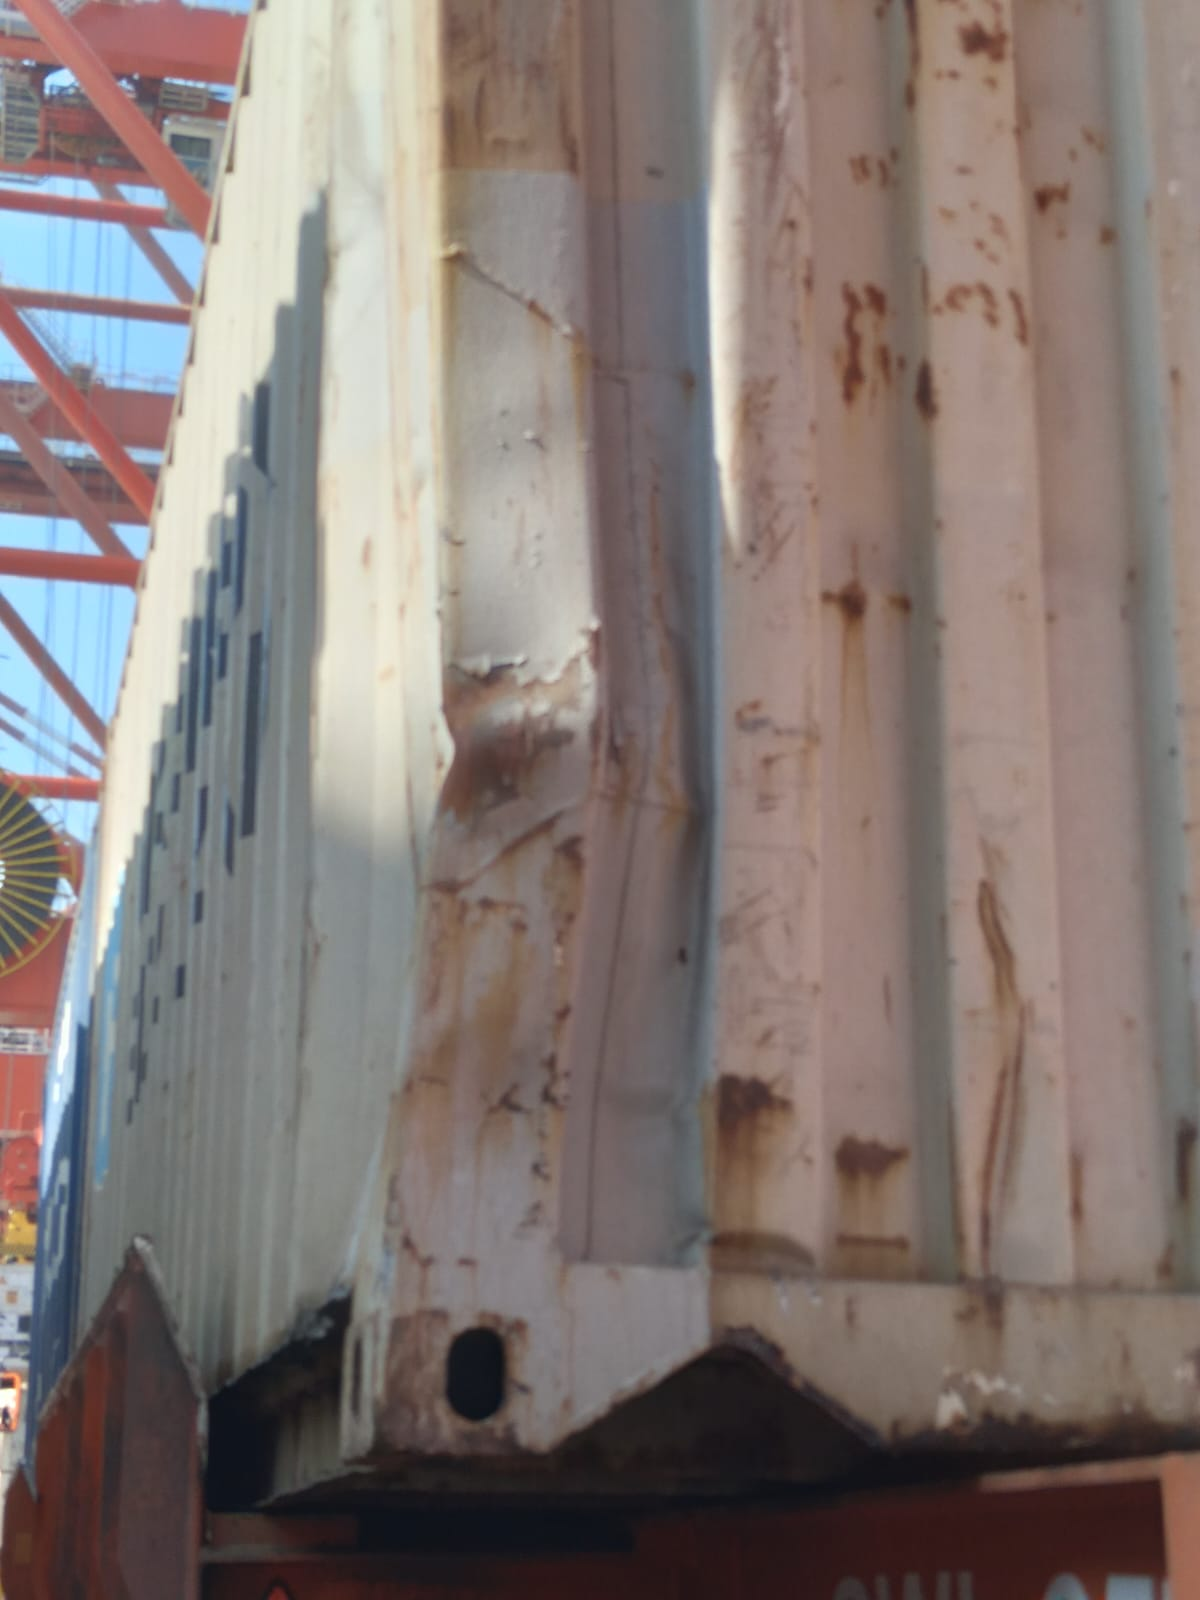moderate: (245, 409, 683, 1044)
